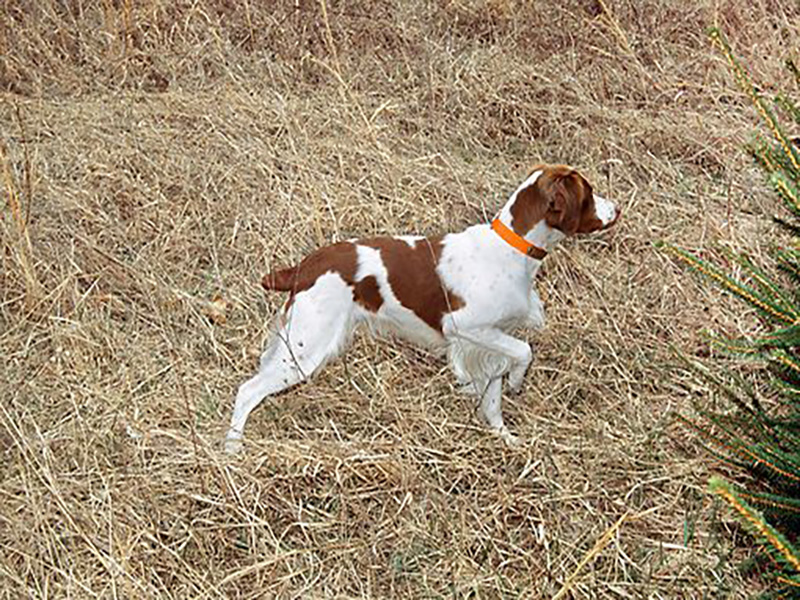cane da caccia: (209, 152, 628, 453)
